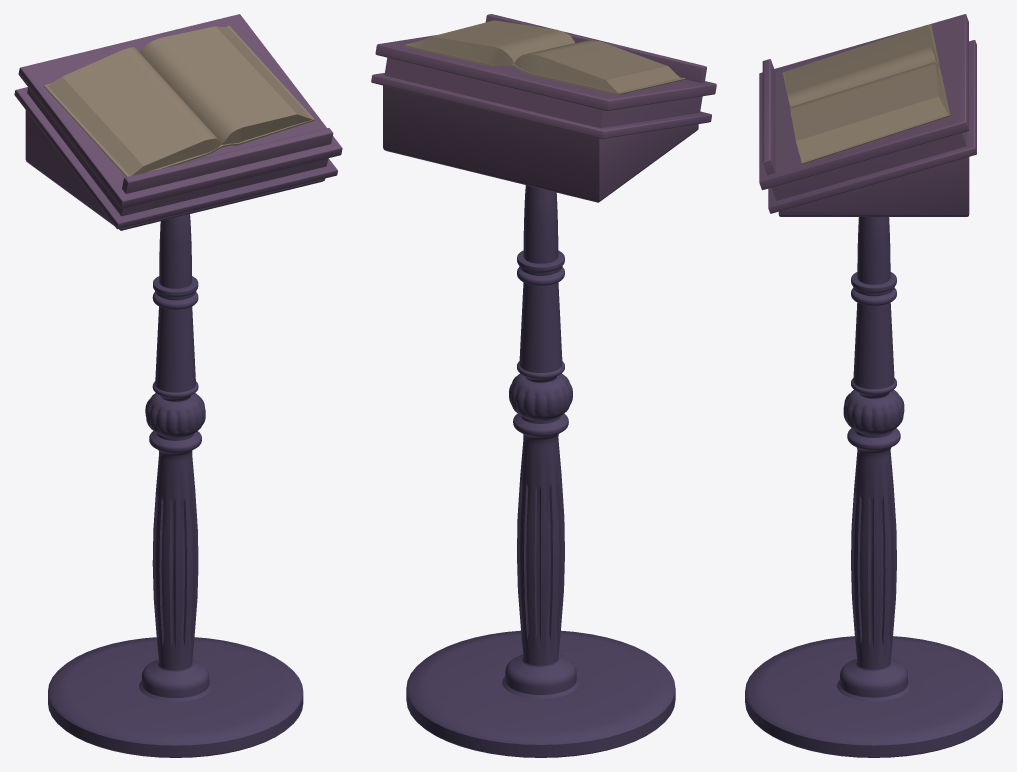
Rendered from book-lectern.glb.
3 renders of one model, left to right at view 1: azimuth 30°, elevation 25°; view 2: azimuth 150°, elevation 25°; view 3: azimuth 270°, elevation 25°, orthographic. The views are drawn at different scales.
Visible parts, largest first — view 1: Book and lectern; view 2: Book and lectern; view 3: Book and lectern.
Part boxes in pixels (x1,y1,x2,y2): Book and lectern: (14,14,342,757); Book and lectern: (371,14,716,757); Book and lectern: (745,14,1002,757).
Bounding box in the file's own units: 0.3854 × 1.07 × 0.3854.
Materials: 2 (1 with a texture image).
